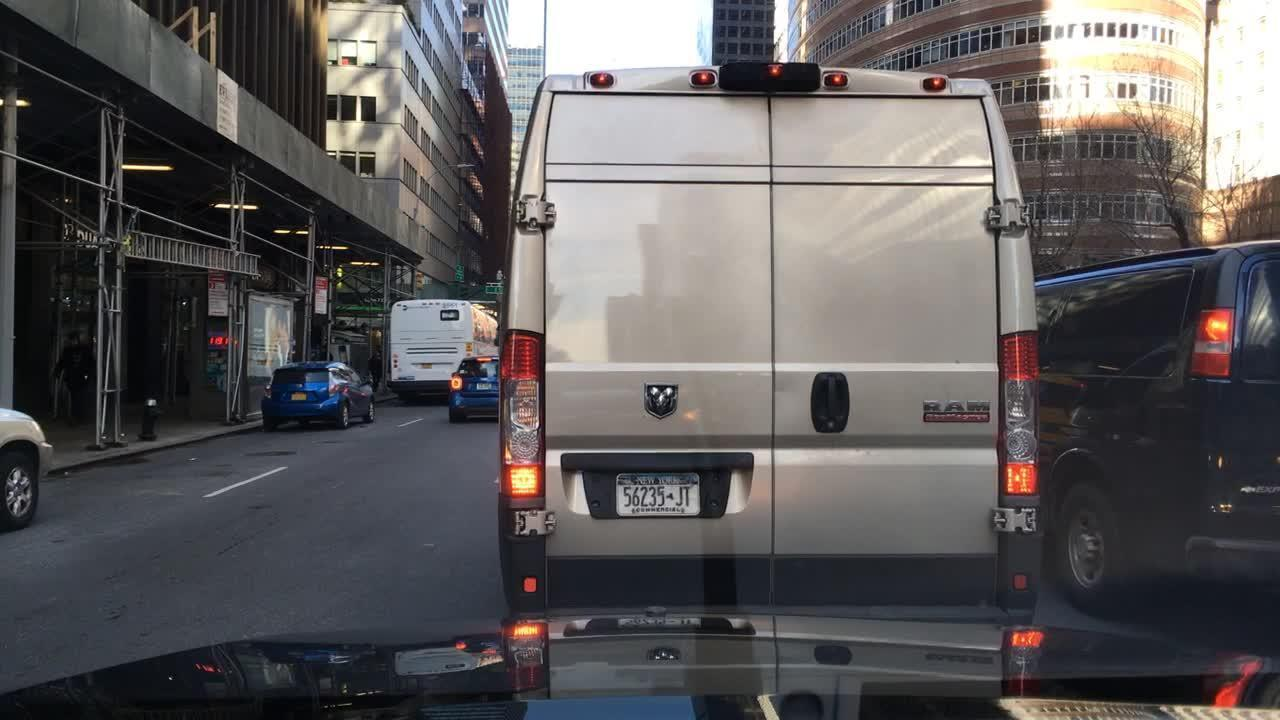ram: (637, 376, 685, 424)
